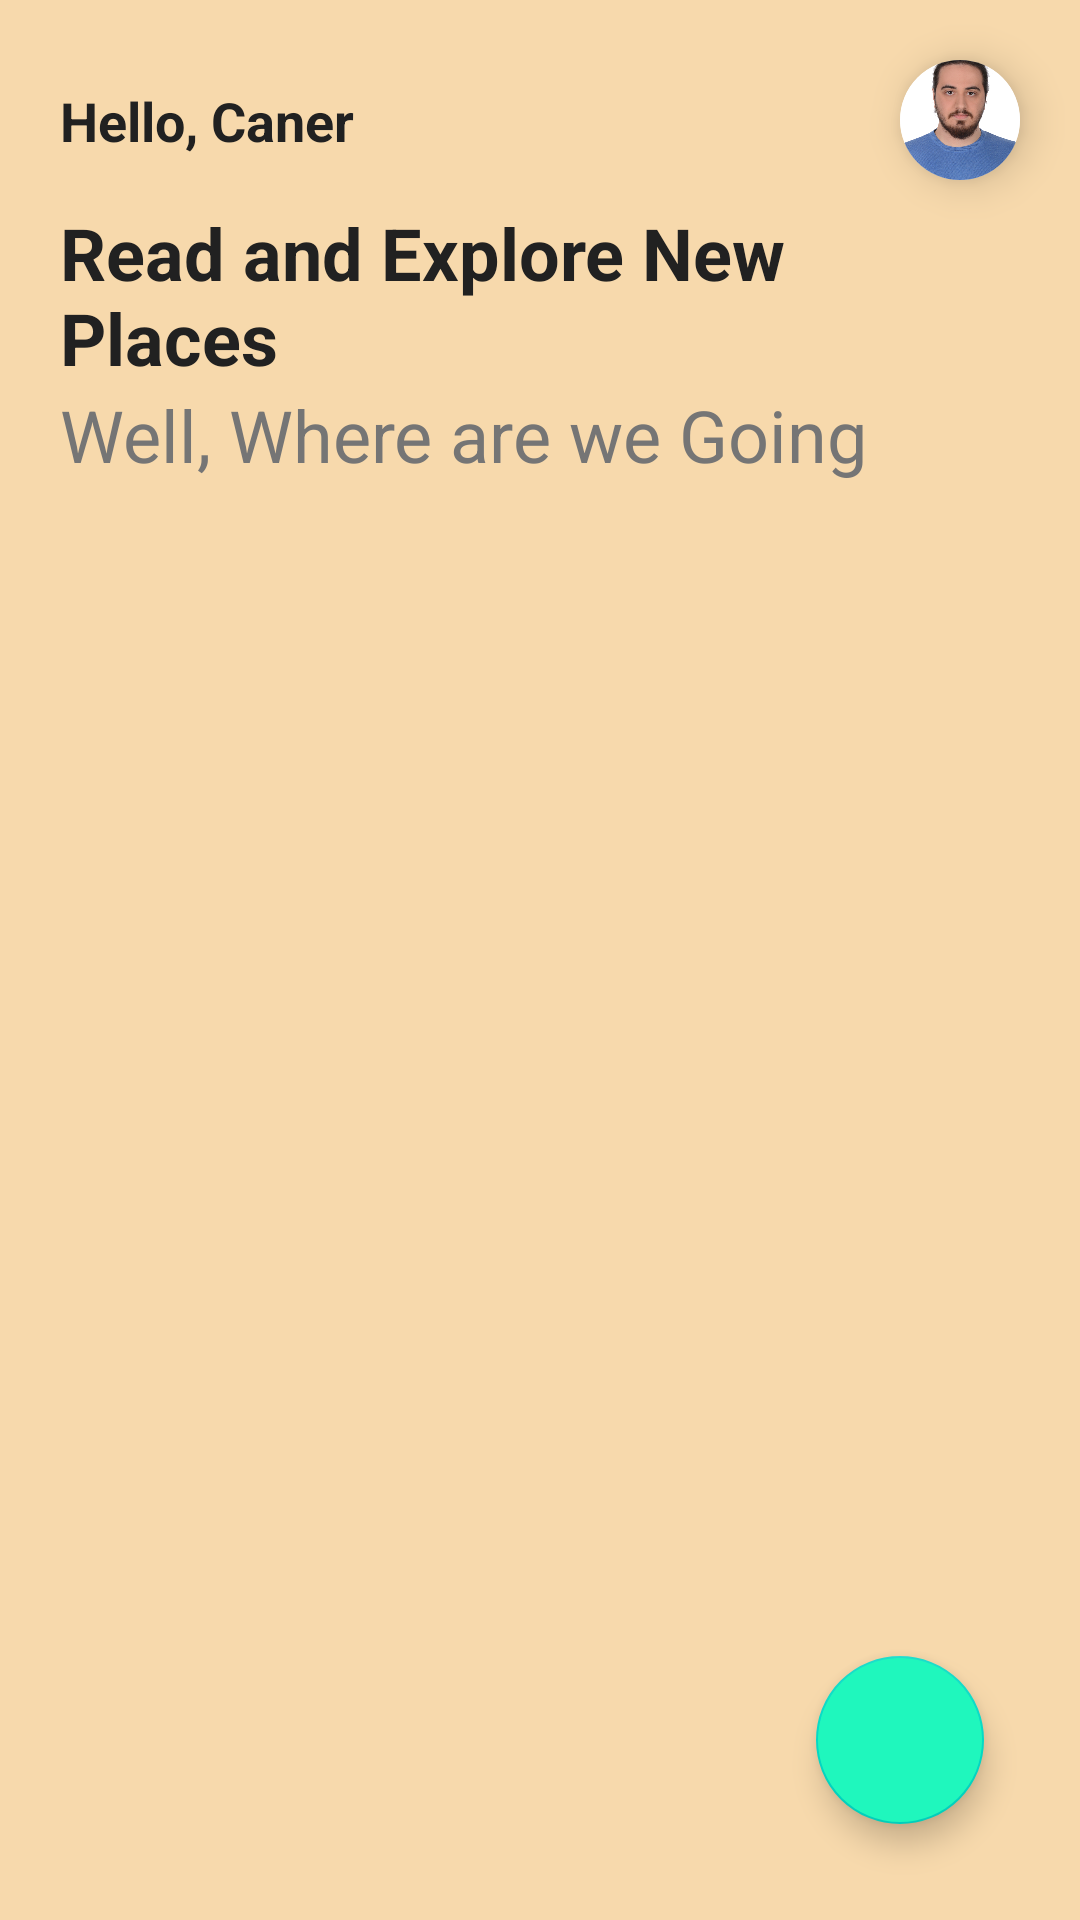

Screen size 1080px x 1920px. Icon name, then its center in pixels as (x,y):
profilepicture: (960,120)
